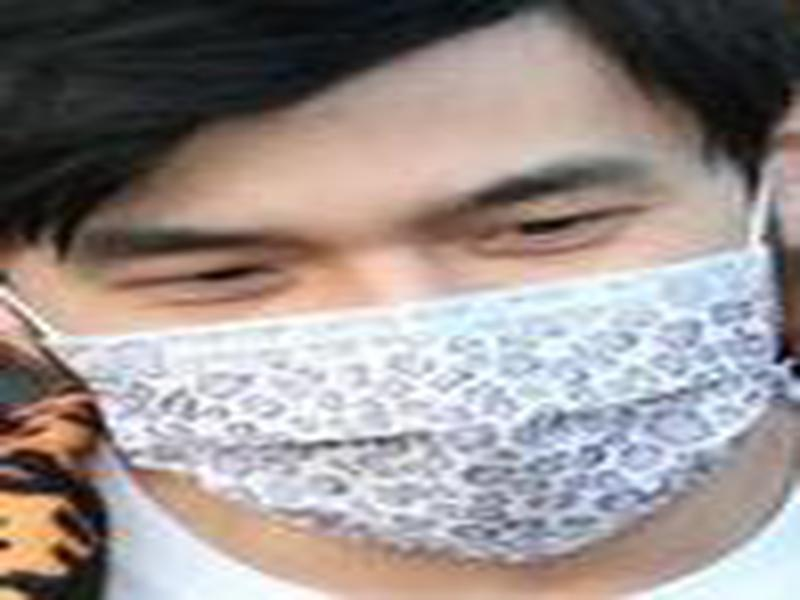with_mask: (1, 1, 791, 573)
